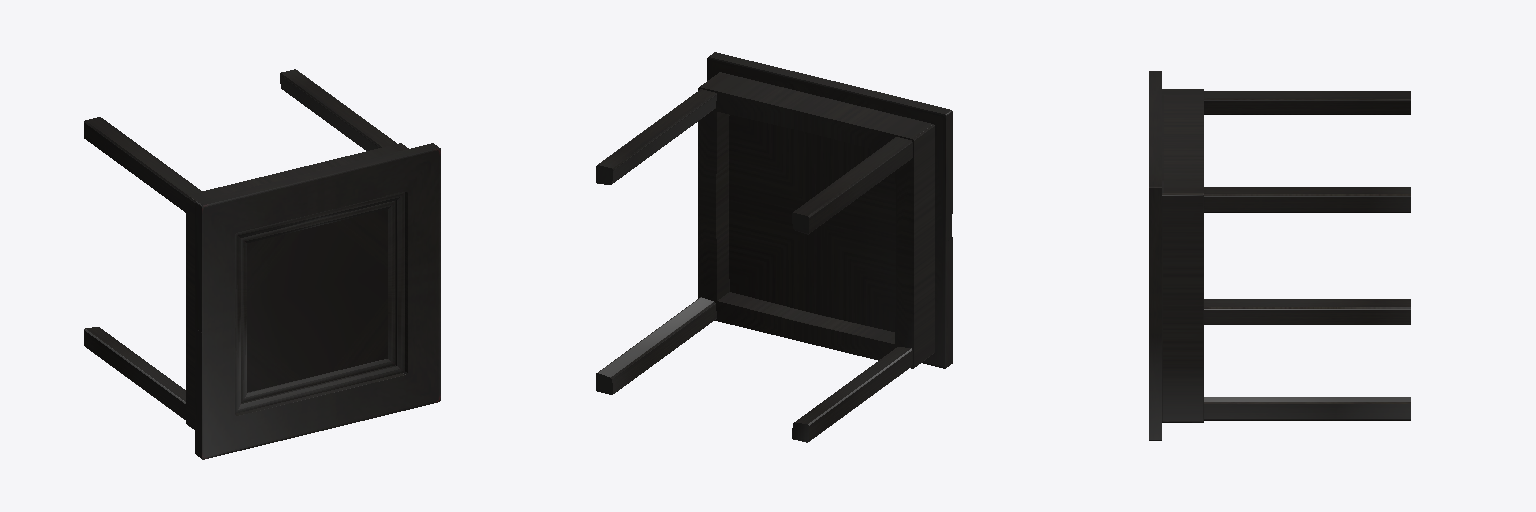
3 renders of one model, left to right at view 1: azimuth 30°, elevation 25°; view 2: azimuth 150°, elevation 25°; view 3: azimuth 270°, elevation 25°, orthographic.
Size of the model in its own units: 0.6714 by 0.6823 by 0.6366.
1 materials, 1 textured.